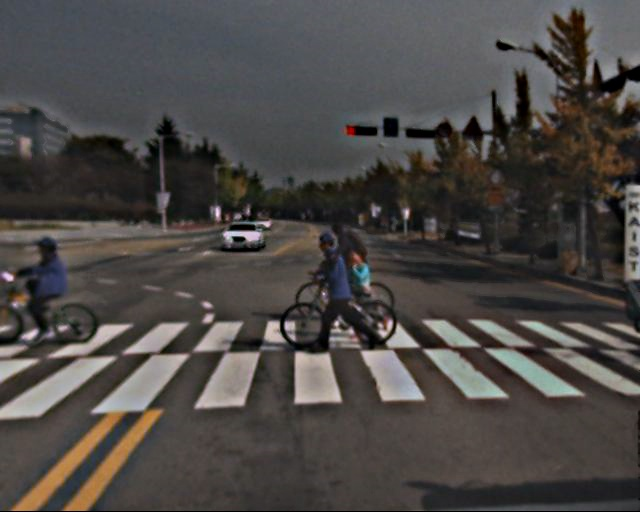person: (26, 232, 87, 341), (312, 234, 366, 350), (321, 223, 372, 331), (340, 244, 383, 342)
